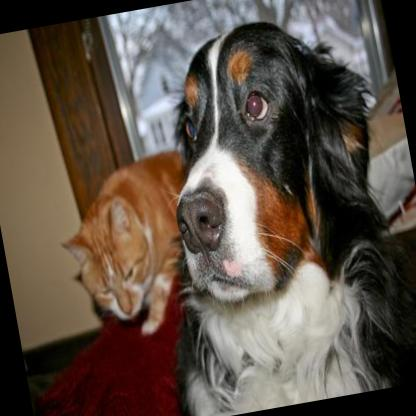Bernese_mountain_dog: (116, 0, 416, 416)
